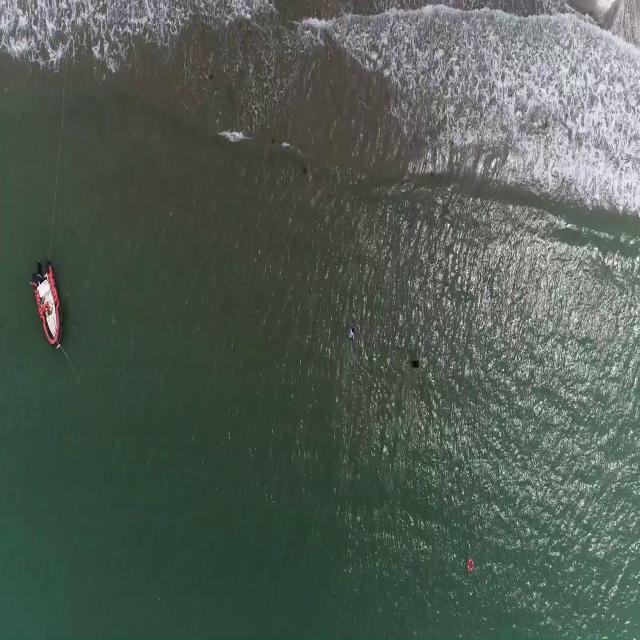boat: (32, 261, 62, 349)
life_buoy: (467, 556, 475, 572)
person: (348, 319, 361, 340), (411, 352, 421, 372)
